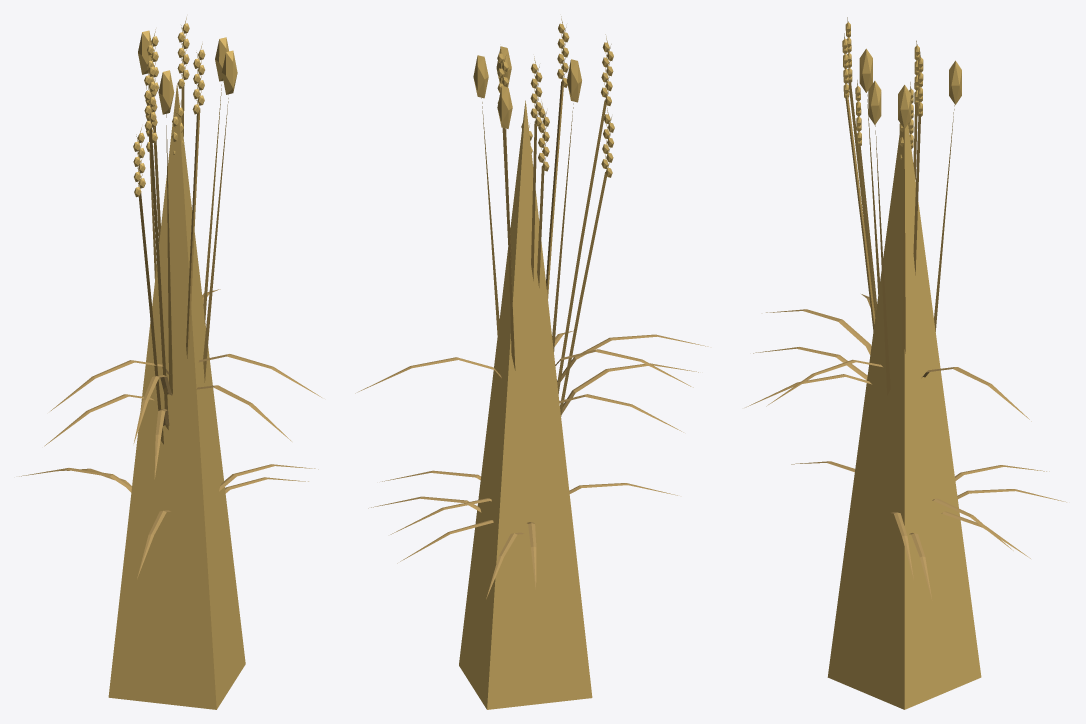
File: wheat.glb
The picture shows the model from 3 angles, left to right: view 1: azimuth 30°, elevation 25°; view 2: azimuth 150°, elevation 25°; view 3: azimuth 270°, elevation 25°; orthographic projection. The views are drawn at different scales.
Parts seen in each view (by area): view 1: stem (×3), ear (×2), leaves; view 2: stem (×3), ear (×2), leaves; view 3: stem (×3), leaves, ear (×2).
Part boxes in pixels (x1,y1,x2,y2): stem (×3): (108,81,245,709); ear (×2): (133,17,237,197); leaves: (19,289,321,578); stem (×3): (459,82,606,709); ear (×2): (473,16,614,177); leaves: (355,330,708,598); stem (×3): (827,79,981,709); leaves: (745,294,1066,600); ear (×2): (842,17,961,159).
Bounding box in the file's own units: 0.4773 × 1 × 0.4642.
